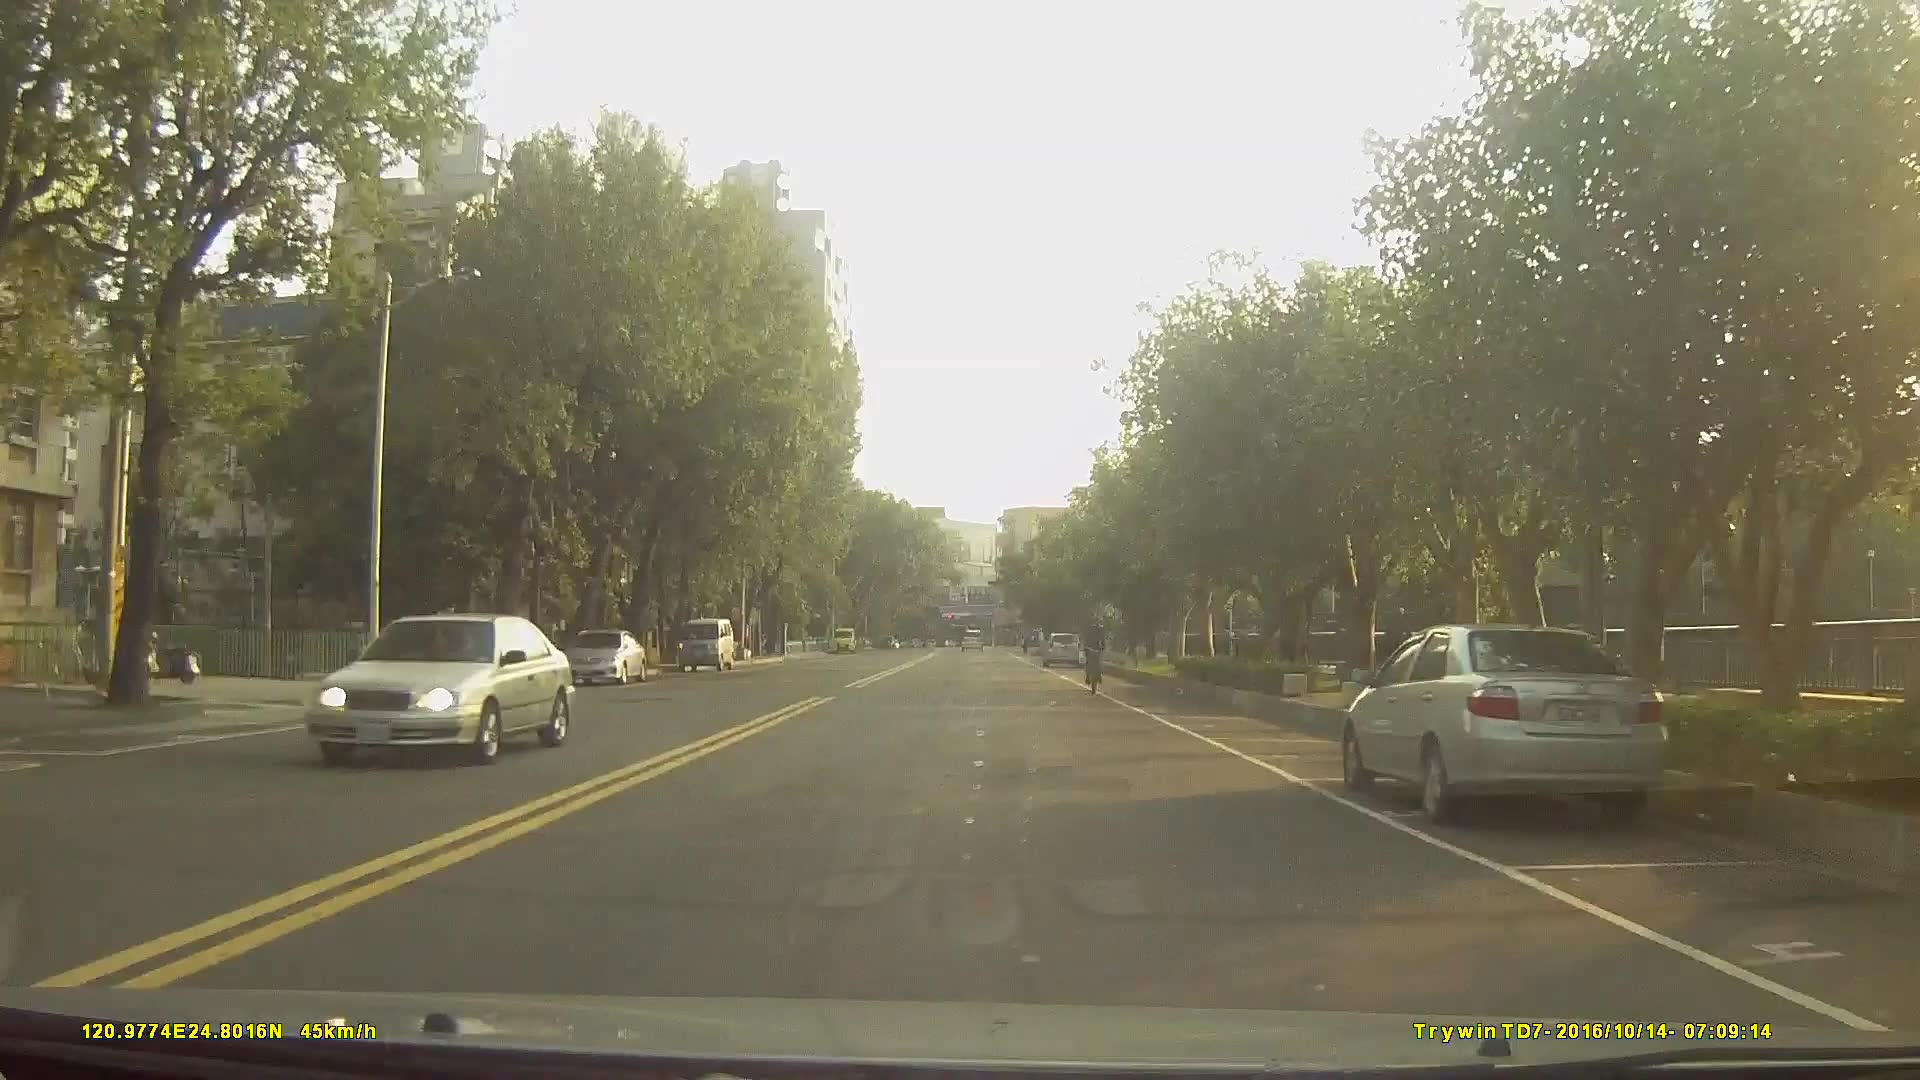rider: (1082, 617, 1110, 700)
vehicle: (1335, 620, 1671, 828), (300, 611, 575, 765), (564, 628, 646, 688), (677, 617, 737, 671), (1040, 628, 1083, 667), (960, 624, 985, 650)
